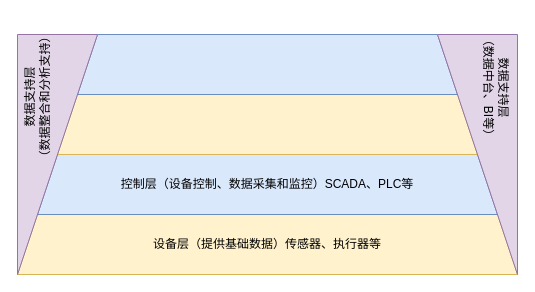
The diagram is 535 pixels wide and 292 high, and some of its shapes have lost their labels. The box of each missing label's shape, as (x1, y1, x2, y2) in pixels:
企业层（战略规划和资源协调）ERP、SCM、CRM、PLM: (76, 34, 458, 94)
运营层（生产执行、库存管理和质量控制）MES、WMS和QMS: (56, 94, 478, 154)
